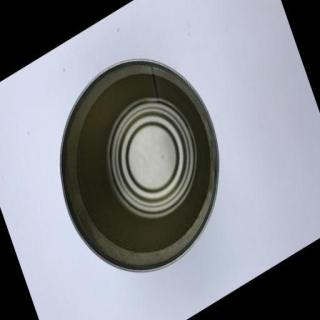METAL: (60, 58, 218, 274)
